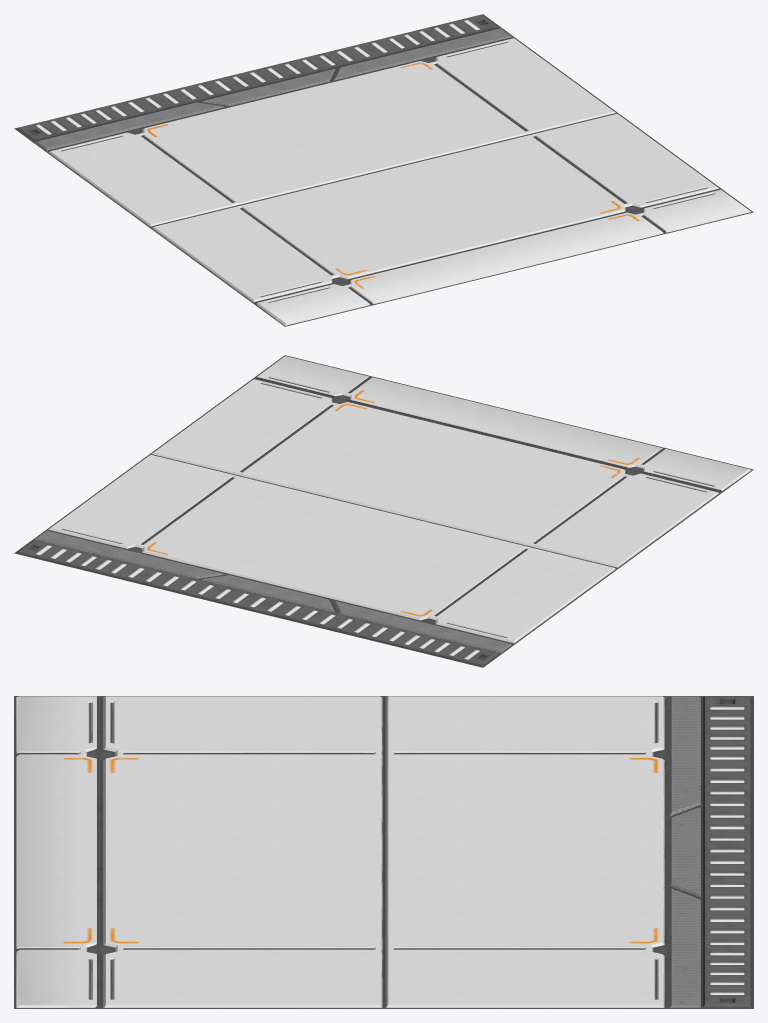
Rendered from SM_MFloor02-350x350-3.FBX.
The picture shows the model from 3 angles, top to bottom: view 1: azimuth 30°, elevation 25°; view 2: azimuth 150°, elevation 25°; view 3: azimuth 270°, elevation 25°; orthographic projection. The views are drawn at different scales.
Parts seen in each view (by area): view 1: SM_MFloor02-350x350-3; view 2: SM_MFloor02-350x350-3; view 3: SM_MFloor02-350x350-3.
Part boxes in pixels (left/top/right/bottom): SM_MFloor02-350x350-3: left=14, top=14, right=753, bottom=326; SM_MFloor02-350x350-3: left=14, top=355, right=753, bottom=667; SM_MFloor02-350x350-3: left=14, top=696, right=753, bottom=1008.
Size of what is drawn, in the model's own units: 350 by 350 by 1.
